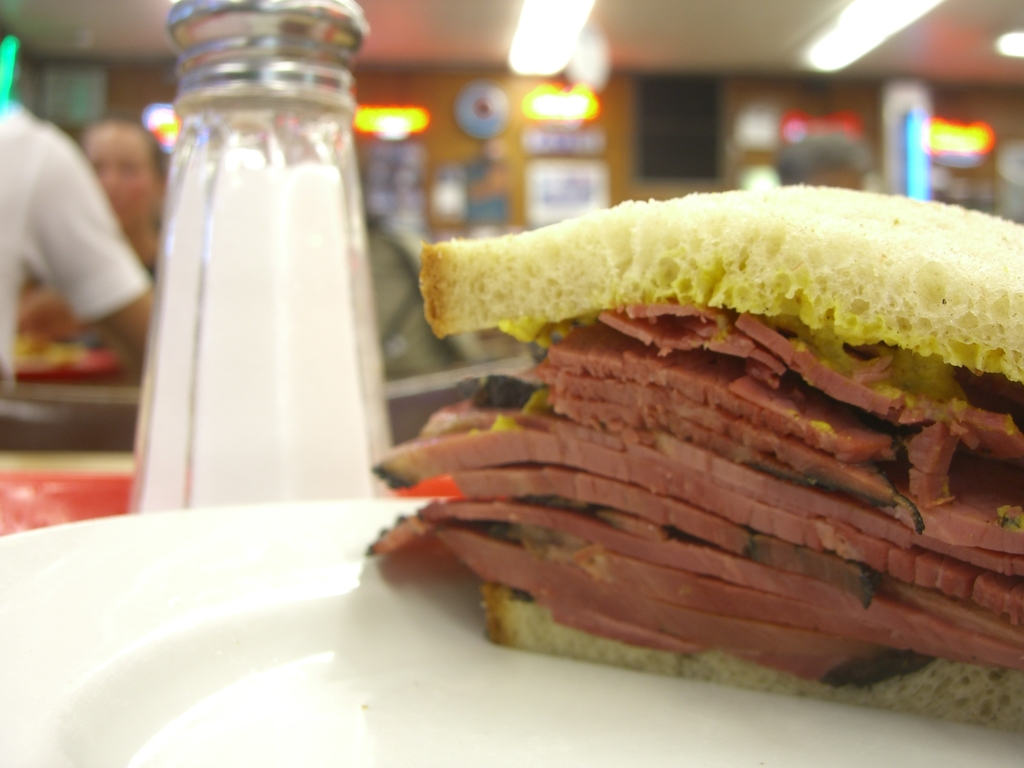sandwich: (367, 184, 1023, 740)
